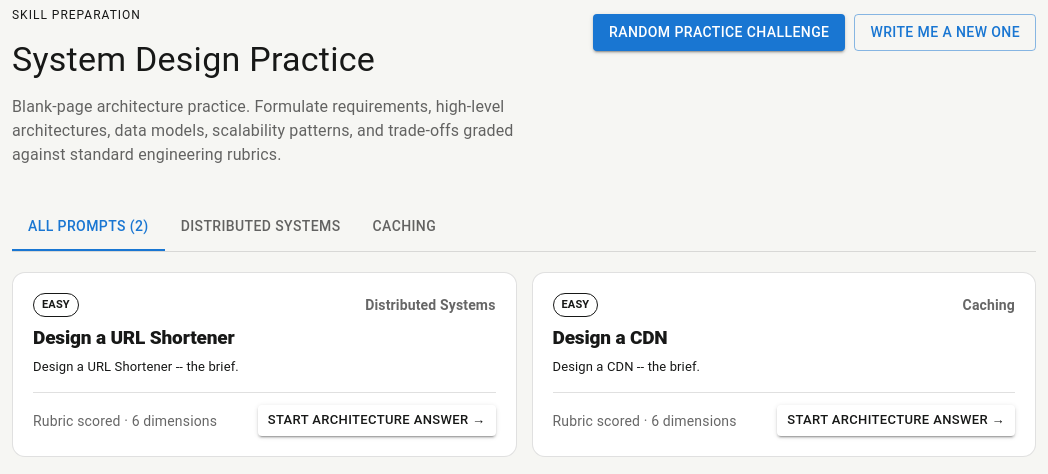
Test: SystemDesignSetupPage › filters the grid by category
Expected: the element "Design a CDN" is shown, [532, 272, 1036, 457]
Step 1. Click the tab "Caching" → [404, 227], box [356, 203, 452, 251]
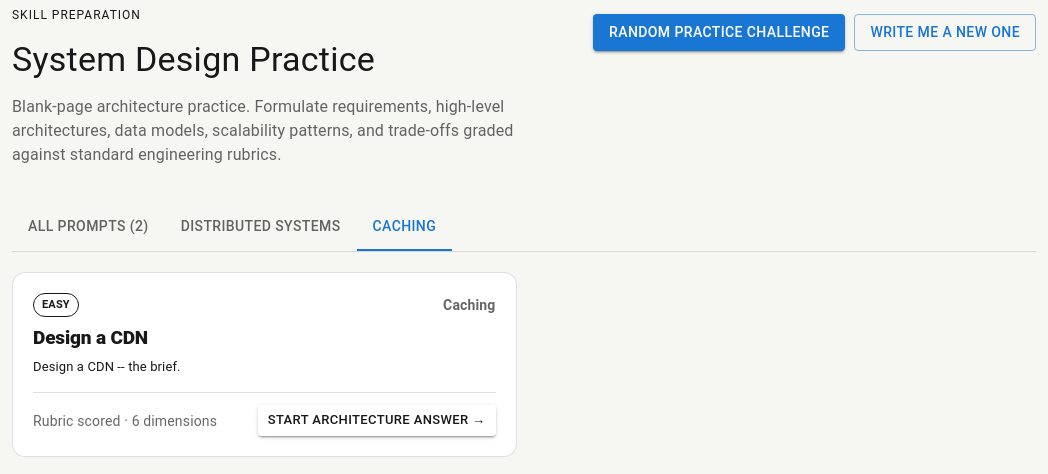
Expected: the element "Design a CDN" is shown, [12, 272, 516, 457]
Now the heading "Design a URL Shortener" is gone
